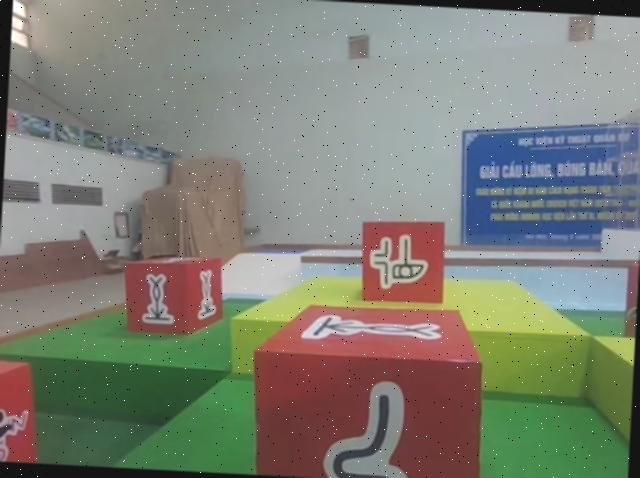R1: (0, 350, 48, 464), (619, 256, 640, 349)
R2 Fake: (244, 298, 487, 478)
R2 Real: (121, 253, 227, 337), (359, 219, 447, 306)
